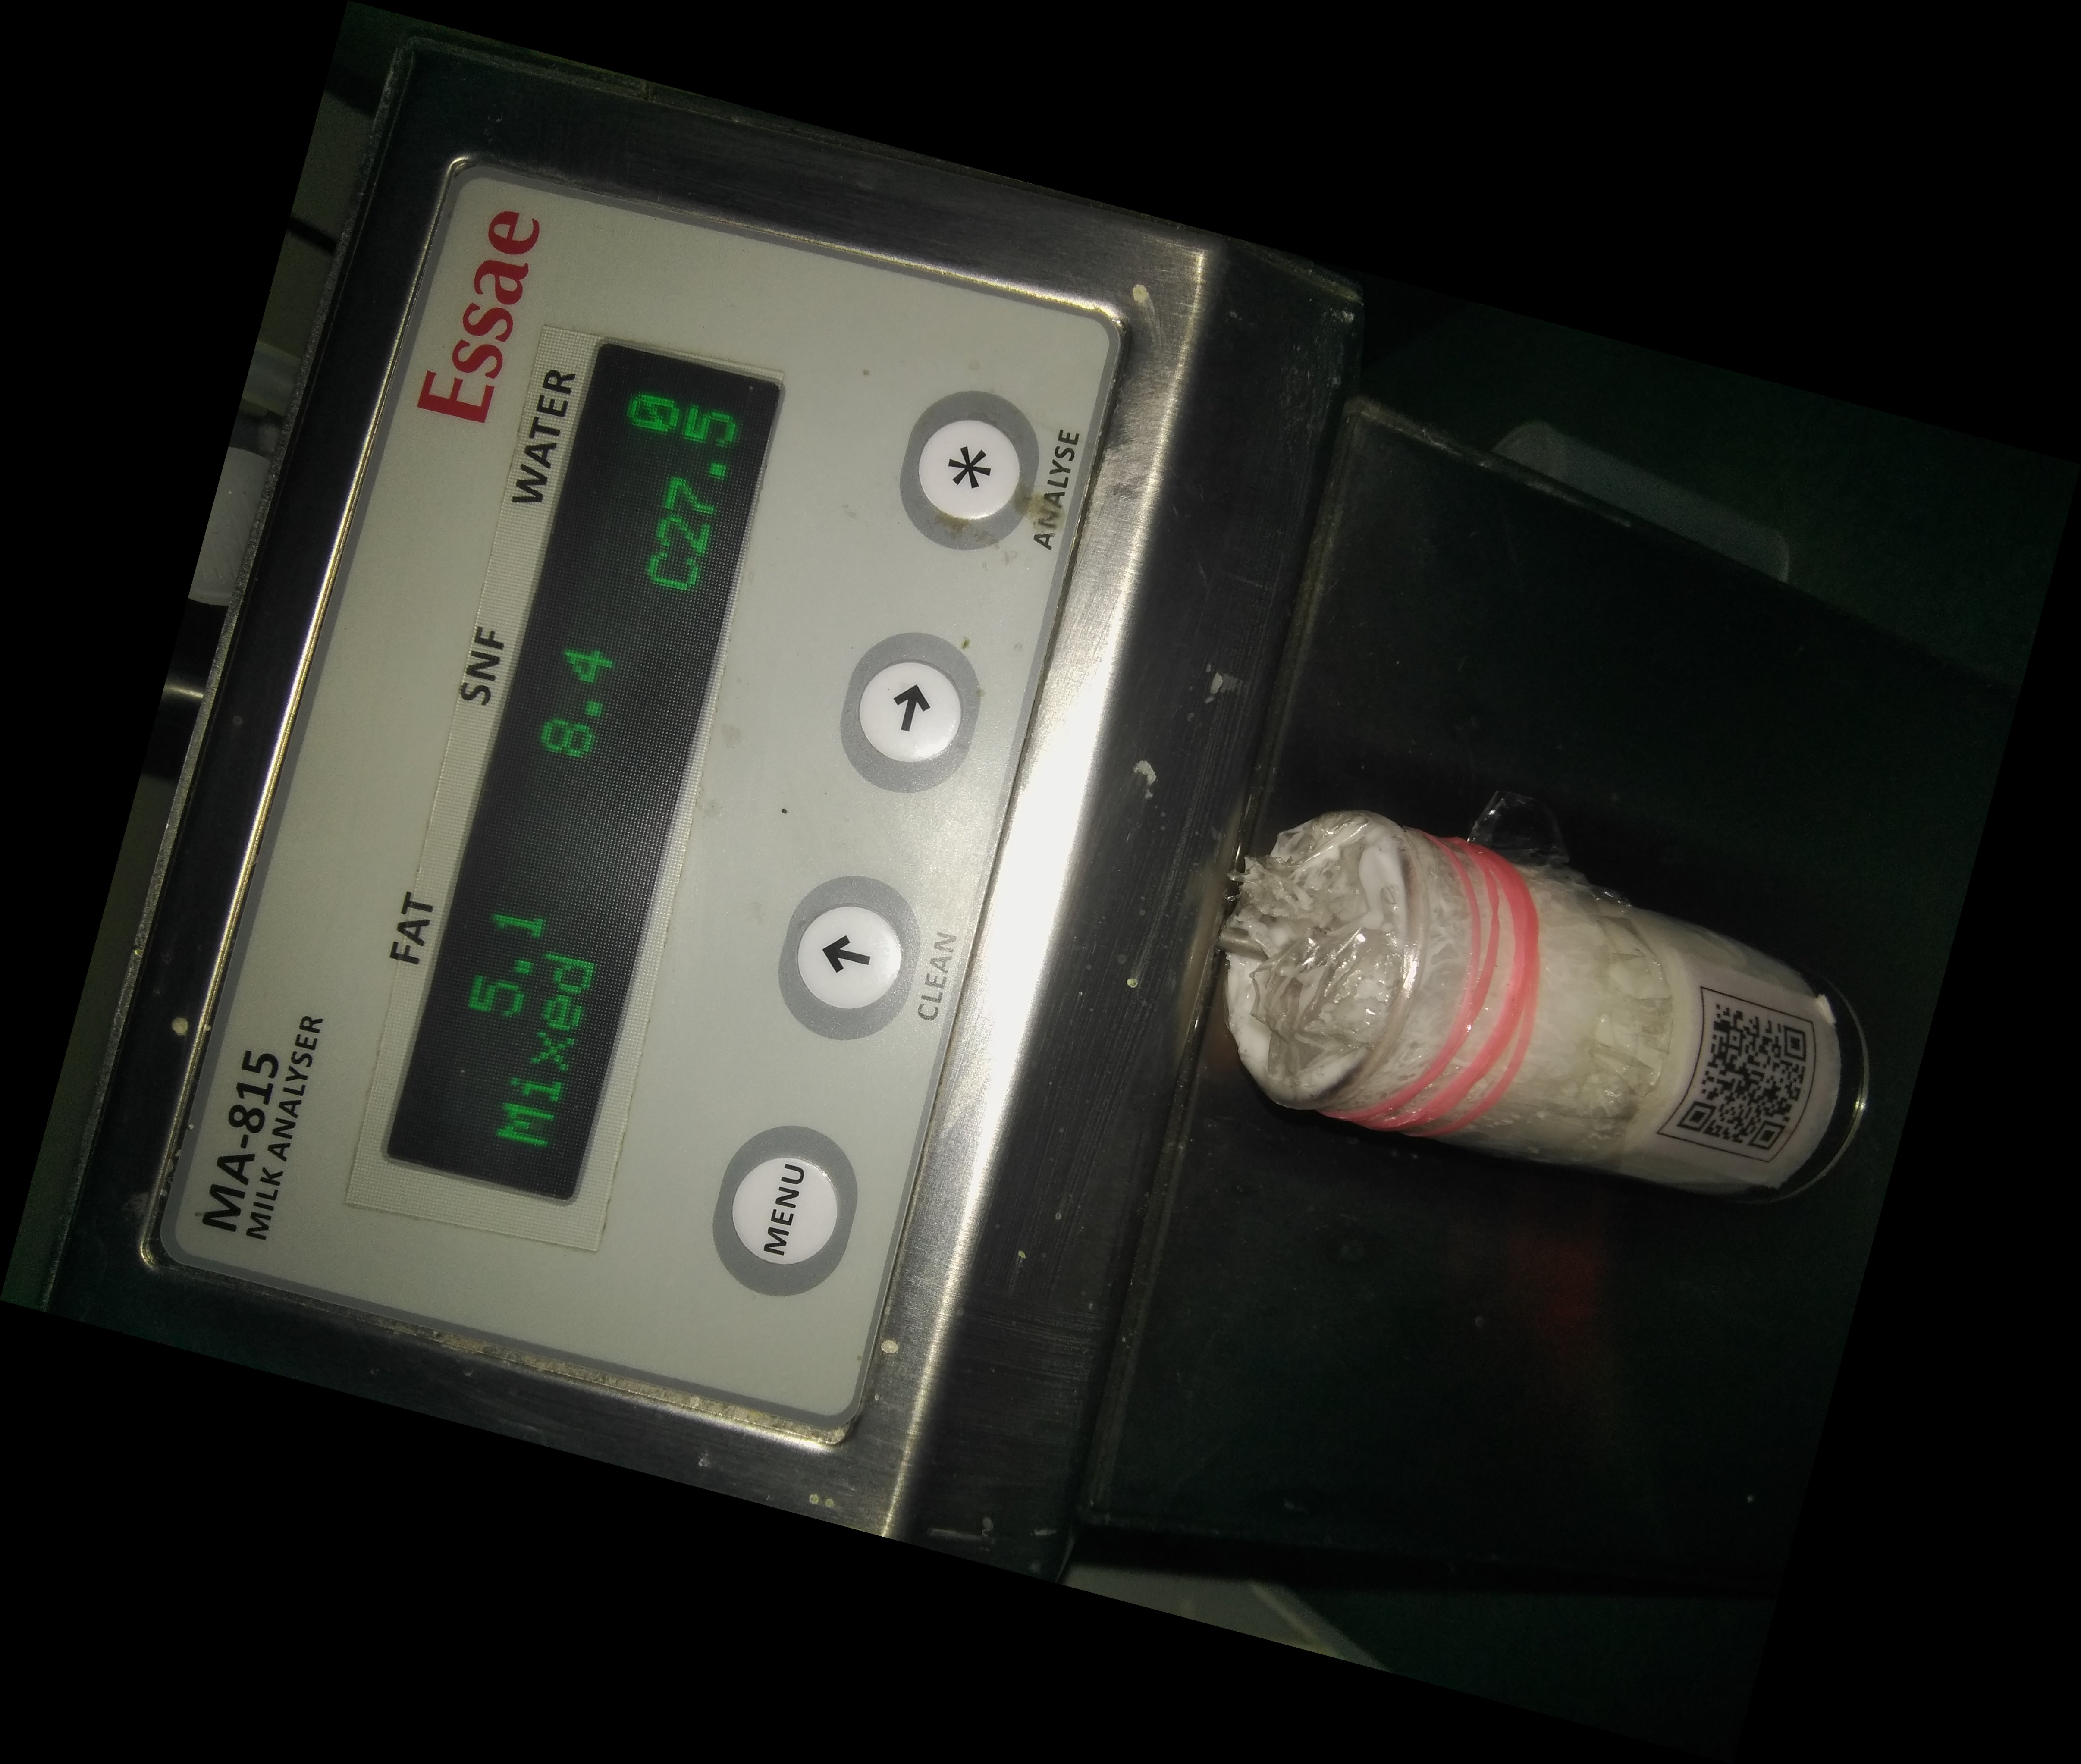lcd: (354, 297, 835, 1256)
qr: (1650, 983, 1834, 1178)
